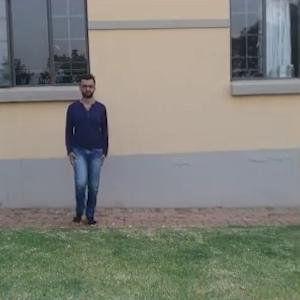follow: (64, 72, 109, 224)
